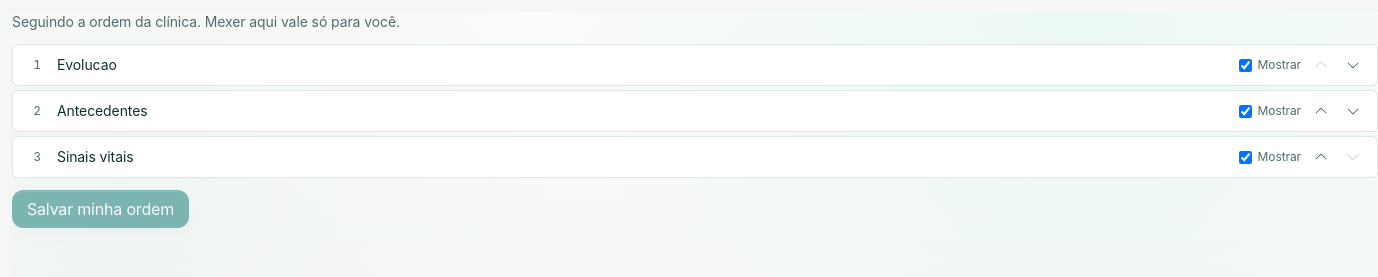
it: LayoutDoProntuario › esconder TODAS é recusado
Click the checkbox labelled "Mostrar" in the row of "Evolucao" at (1245, 65), box [1239,58,1252,72]
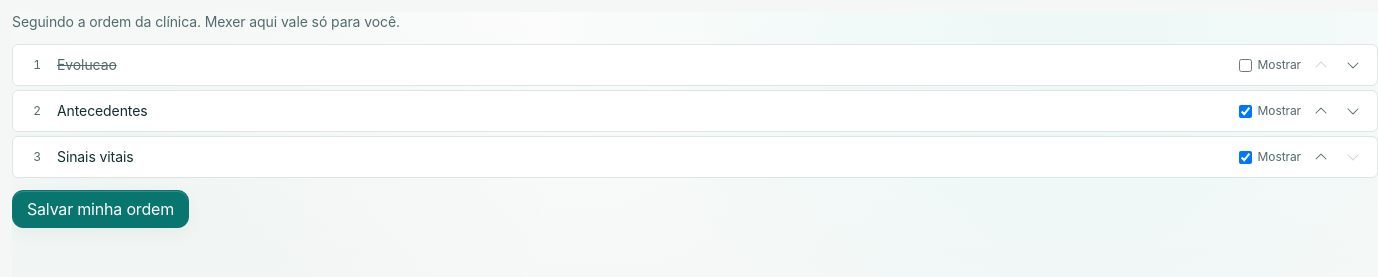
Click the checkbox labelled "Mostrar" in the row of "Antecedentes" at (1245, 111), box [1239,104,1252,118]
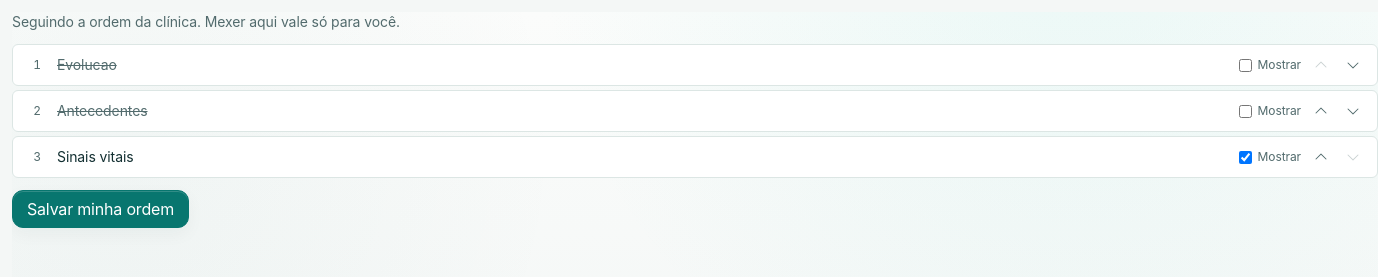
Click the checkbox labelled "Mostrar" in the row of "Sinais vitais" at (1245, 157), box [1239,150,1252,164]
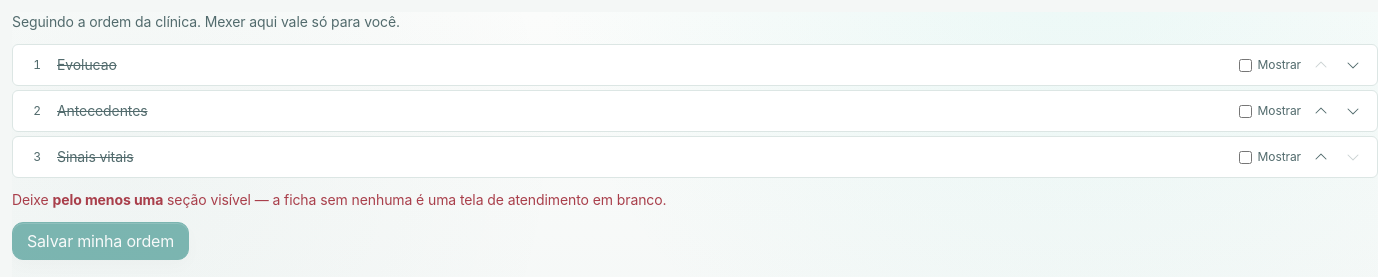
Expected: the button "Salvar minha ordem" is disabled, [12,222,189,260]
Expected: the message shows "pelo menos uma", [52,191,163,208]
